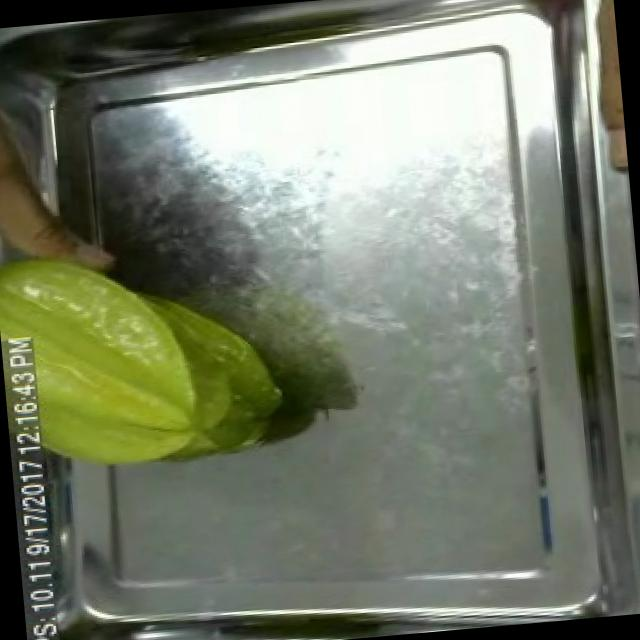fruit: (0, 216, 219, 491)
